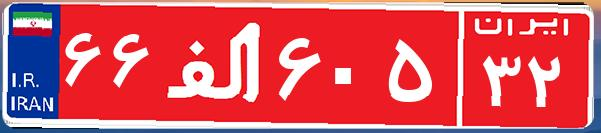0: (330, 28, 385, 110)
2: (525, 38, 570, 115)
3: (475, 38, 525, 113)
5: (385, 28, 445, 110)
6: (273, 28, 330, 110), (57, 26, 110, 107), (110, 28, 158, 105)
الف: (158, 15, 273, 115)
